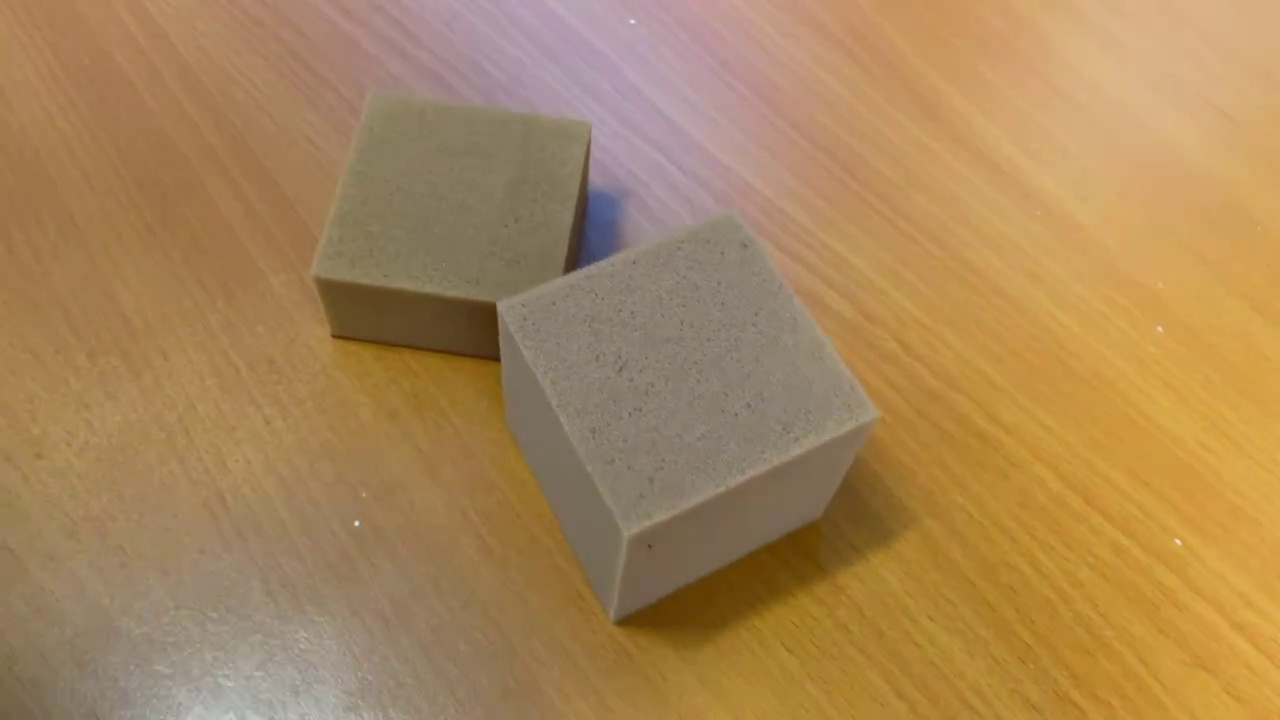Cube: (492, 204, 889, 631)
Cube_short: (303, 83, 596, 370)
